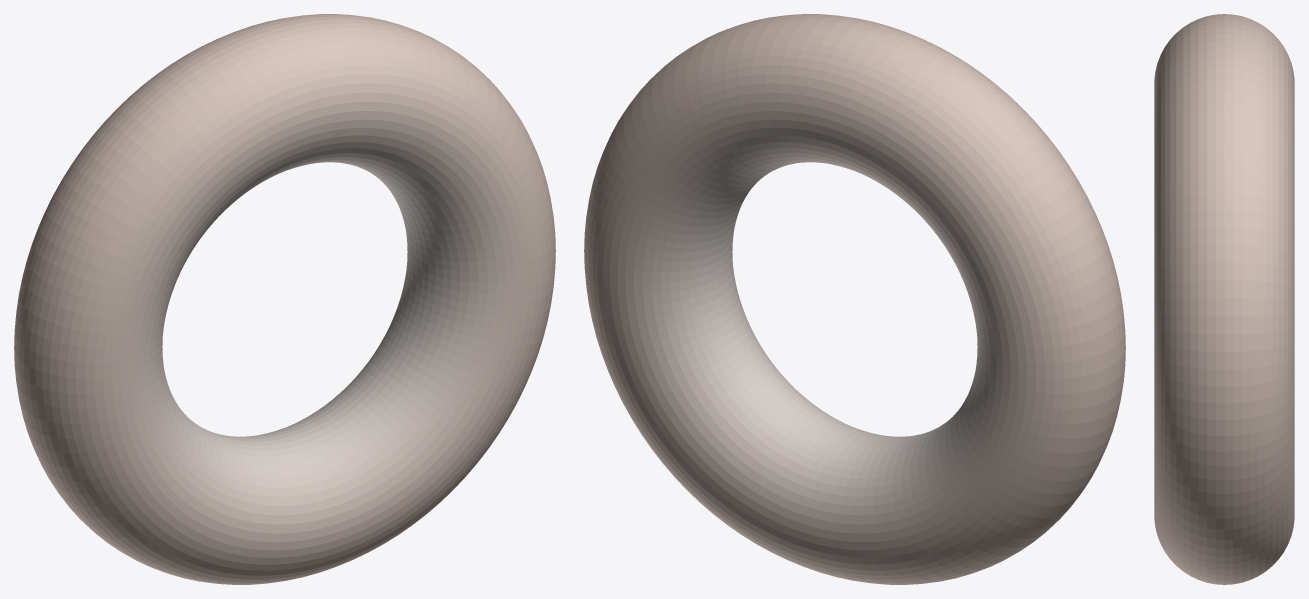
3 views of the same model, side by side, from view 1: azimuth 30°, elevation 25°; view 2: azimuth 150°, elevation 25°; view 3: azimuth 270°, elevation 25° (orthographic). The views are drawn at different scales.
Visible parts, largest first — view 1: world; view 2: world; view 3: world.
Boxes of the visible parts, x1,y1,x2,y2 form: world: (14, 14, 555, 584); world: (584, 14, 1125, 584); world: (1154, 14, 1294, 584).
Bounding box in the file's own units: 26.53 × 26.53 × 6.52.
